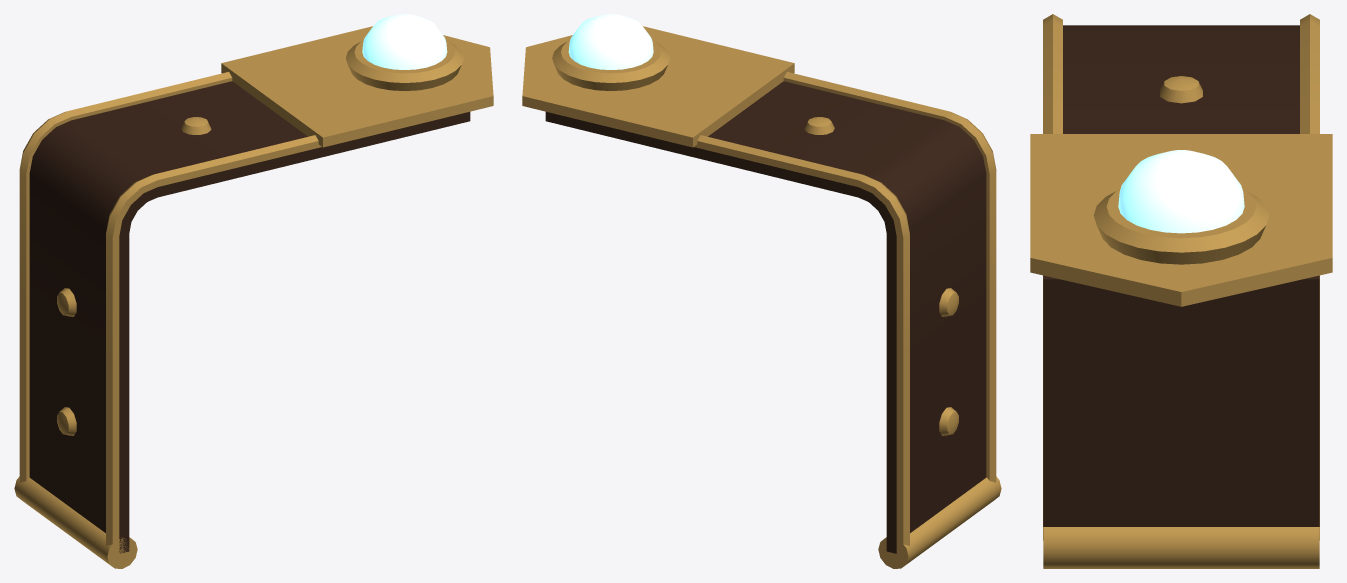
Rendered from grimoire_clasp.glb.
3 renders of one model, left to right at view 1: azimuth 30°, elevation 25°; view 2: azimuth 150°, elevation 25°; view 3: azimuth 270°, elevation 25°, orthographic. The views are drawn at different scales.
Parts seen in each view (by area): view 1: grimoire_clasp; view 2: grimoire_clasp; view 3: grimoire_clasp.
Boxes of the visible parts, bbox=[...] form: grimoire_clasp: bbox=[14, 14, 493, 568]; grimoire_clasp: bbox=[522, 14, 1001, 568]; grimoire_clasp: bbox=[1030, 14, 1332, 568].
Bounding box in the file's own units: 0.454 × 0.44 × 0.186.
